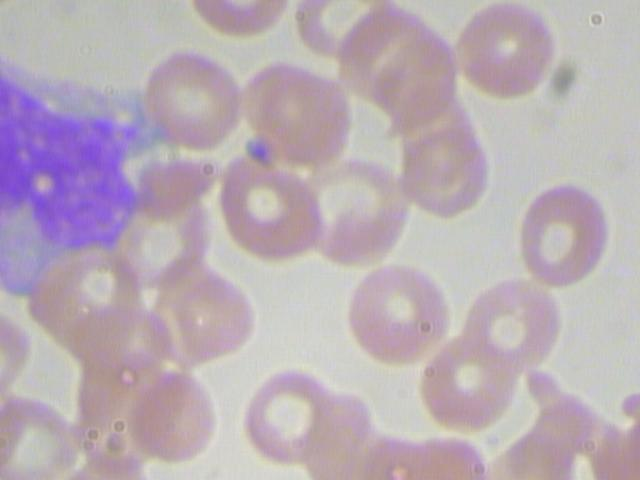RBC: (212, 149, 326, 259), (340, 261, 453, 371), (509, 177, 614, 291), (448, 1, 563, 102), (239, 364, 344, 471), (123, 362, 228, 469), (137, 44, 242, 151), (458, 275, 562, 374), (415, 332, 519, 431)
